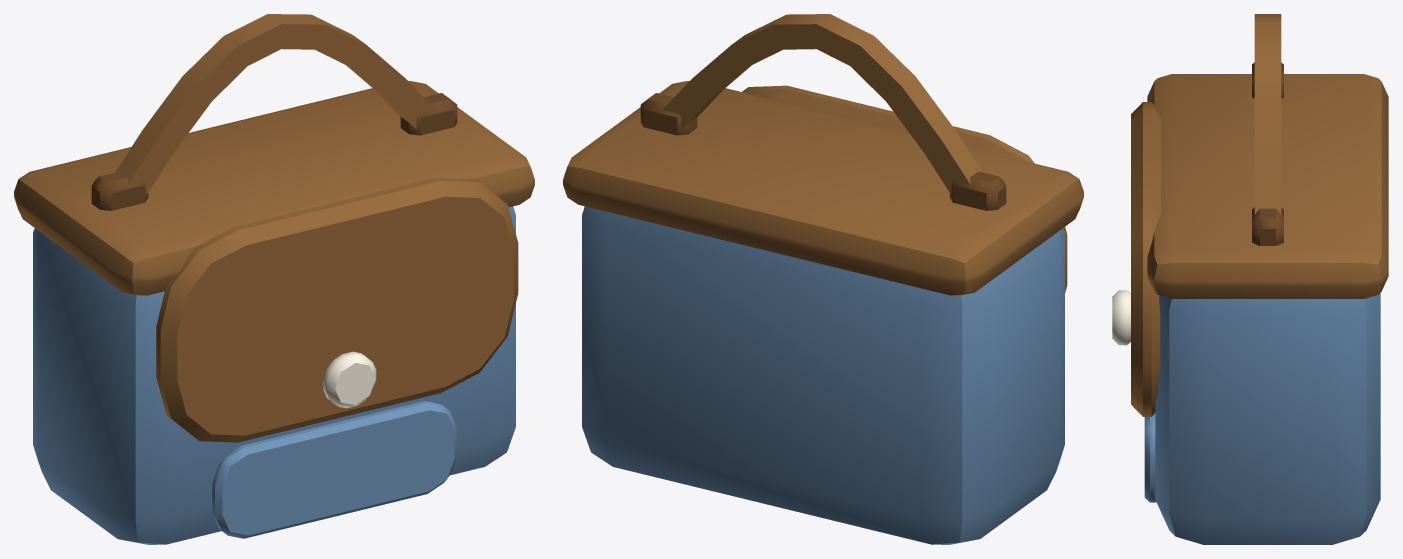
File: ui_satchel.glb
3 views of the same model, side by side, from view 1: azimuth 30°, elevation 25°; view 2: azimuth 150°, elevation 25°; view 3: azimuth 270°, elevation 25° (orthographic). The views are drawn at different scales.
Parts seen in each view (by area): view 1: ui_satchel; view 2: ui_satchel; view 3: ui_satchel.
Part boxes in pixels (x1,y1,x2,y2): ui_satchel: [14, 14, 534, 544]; ui_satchel: [563, 14, 1083, 544]; ui_satchel: [1112, 14, 1388, 544].
Size of the model in its own units: 0.86 by 0.9147 by 0.515.
Materials: 1 (1 with a texture image).
